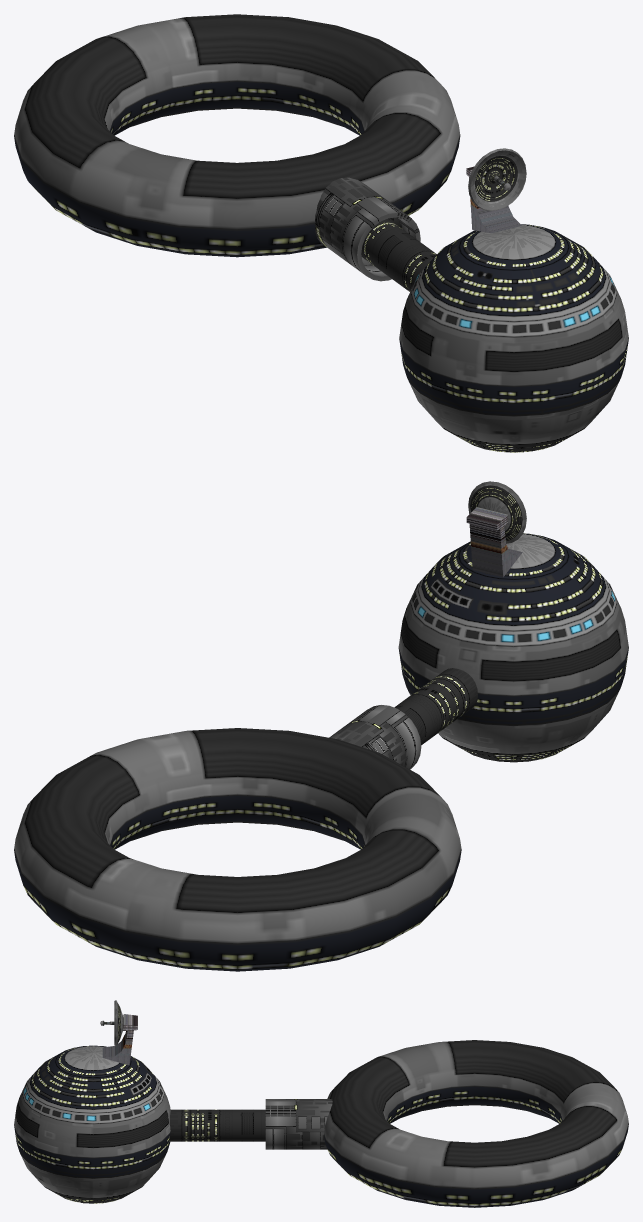
Rendered from Ship1.obj.
3 views of the same model, one above another, from view 1: azimuth 30°, elevation 25°; view 2: azimuth 150°, elevation 25°; view 3: azimuth 270°, elevation 25° (orthographic). The views are drawn at different scales.
Bounding box in the file's own units: 12.61 × 8.77 × 25.15.
